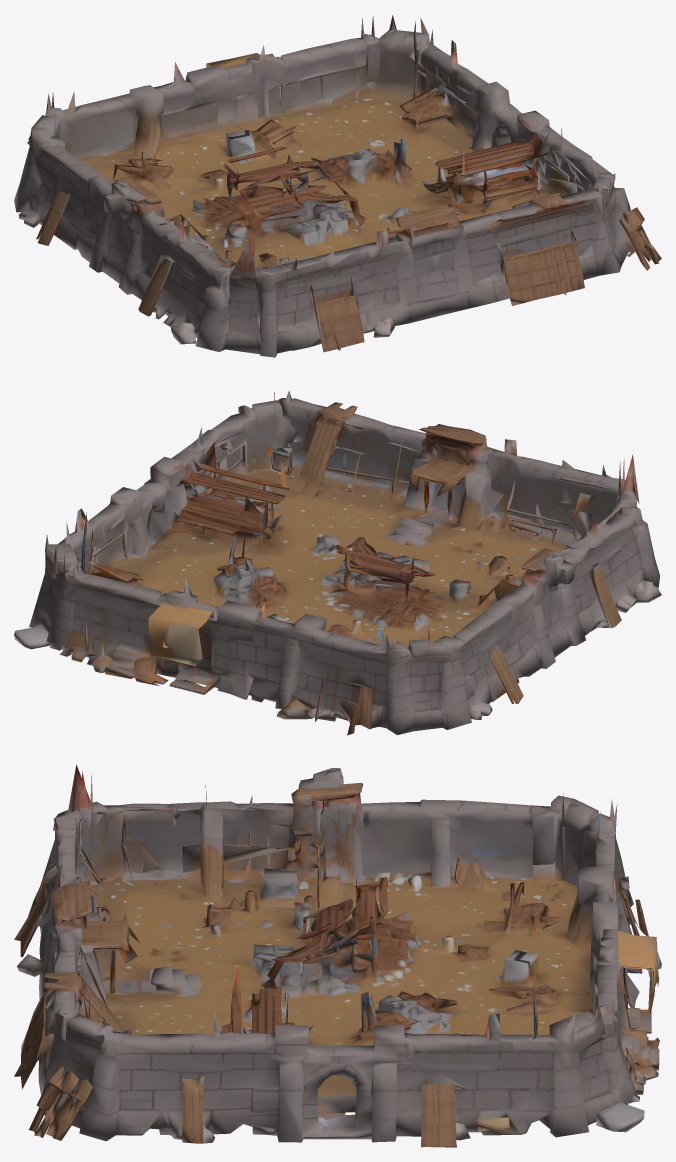
Rendered from medievalBuild.fbx.
The picture shows the model from 3 angles, top to bottom: view 1: azimuth 30°, elevation 25°; view 2: azimuth 150°, elevation 25°; view 3: azimuth 270°, elevation 25°; orthographic projection. The views are drawn at different scales.
Parts seen in each view (by area): view 1: tripo_node_fe63b784; view 2: tripo_node_fe63b784; view 3: tripo_node_fe63b784.
Boxes of the visible parts, x1=… form: tripo_node_fe63b784: x1=14, y1=15, x2=661, y2=357; tripo_node_fe63b784: x1=14, y1=390, x2=661, y2=735; tripo_node_fe63b784: x1=14, y1=764, x2=661, y2=1147.
Bounding box in the file's own units: 0.9966 × 0.2451 × 0.9927.
1 material, 1 textured.
